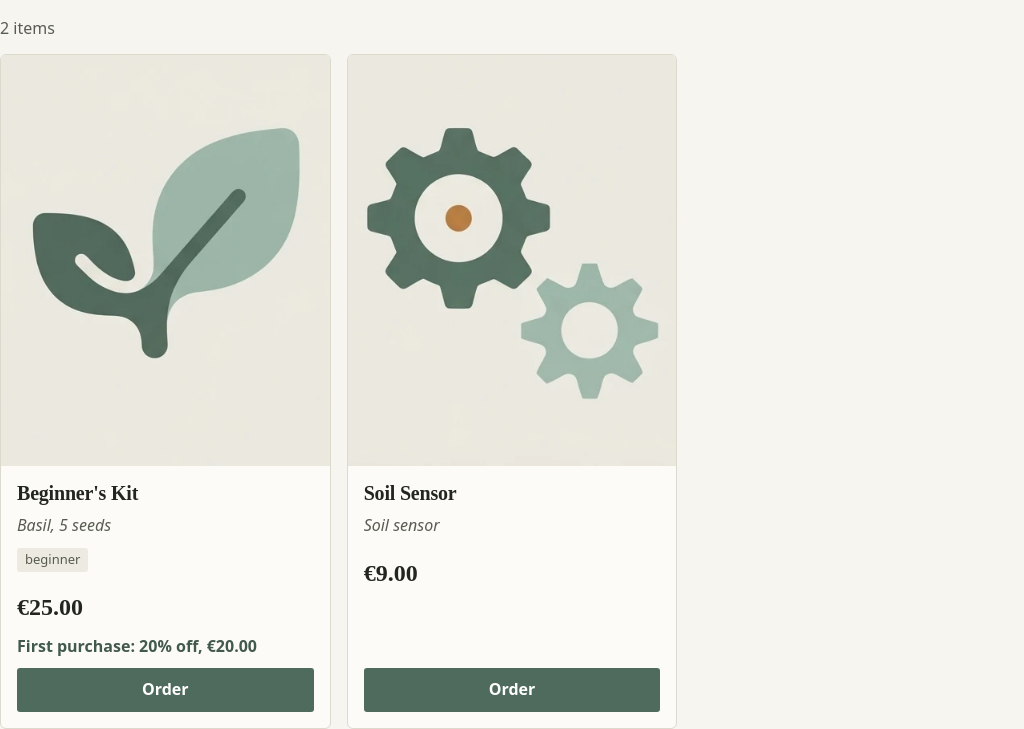
Test case: CatalogPage › places an order with an idempotency key and shows the receipt
(page scrolled)
What coordinates should you click on to do the following:
click the button with aria-label "Order Beginner's Kit"
I would click on:
 (165, 690)
Its box is left=17, top=668, right=314, bottom=712.
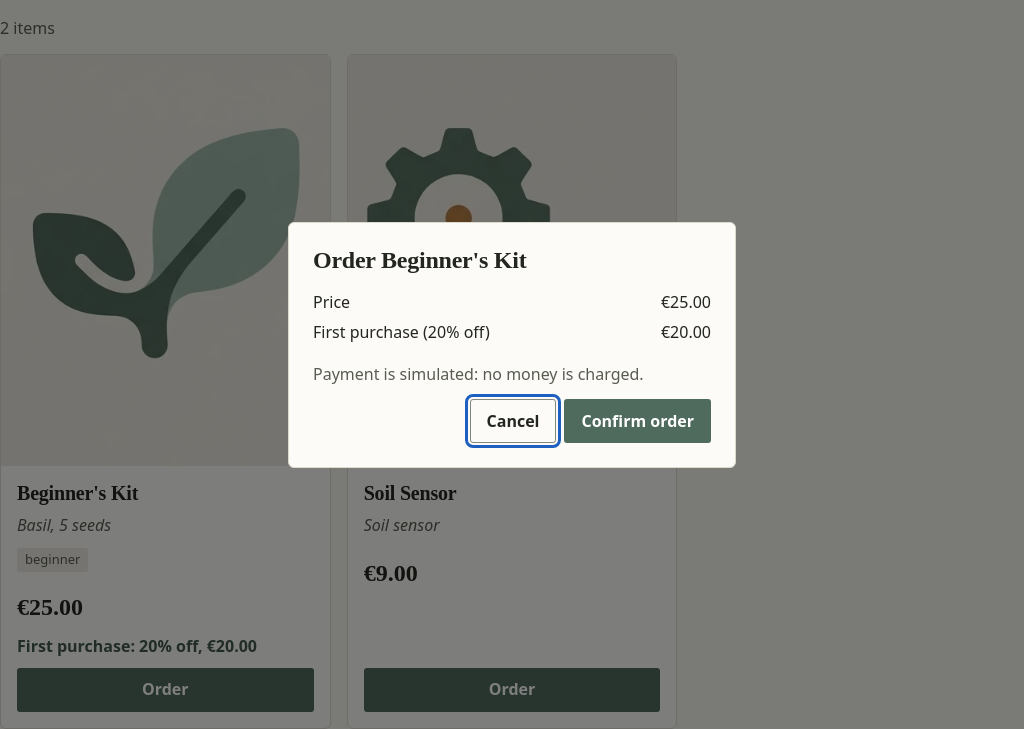
What coordinates should you click on to do the following:
click the button "Confirm order"
I would click on:
 (638, 421)
Its box is left=564, top=399, right=711, bottom=443.
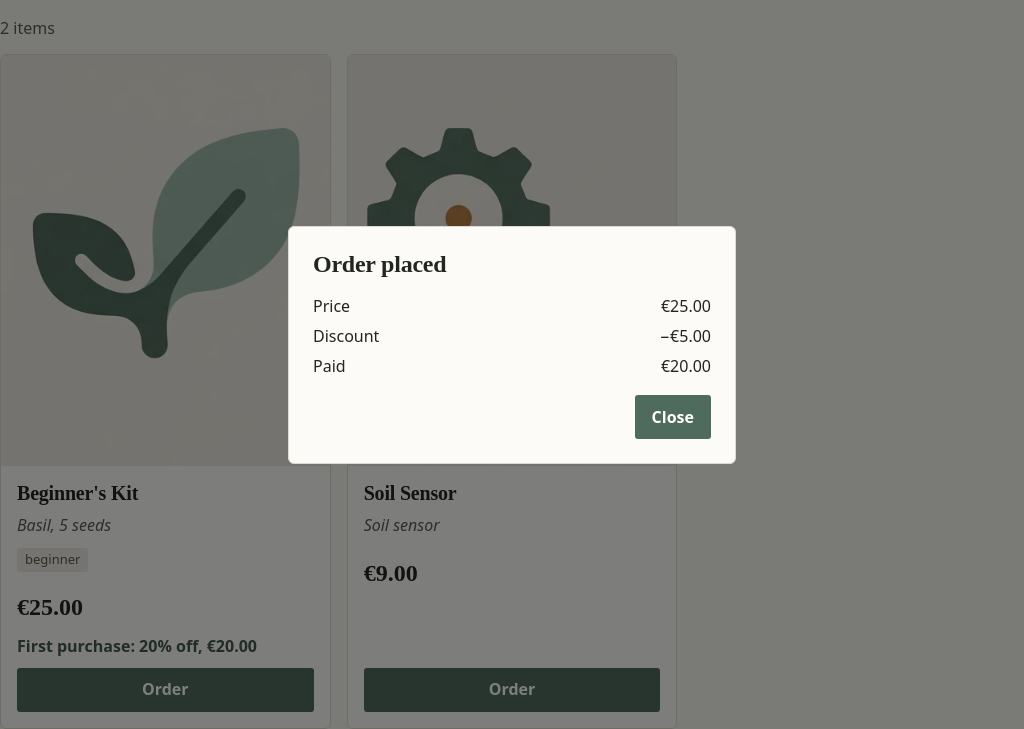
Expected: the text "€20.00" is shown, left=660, top=354, right=711, bottom=379
Expected: the heading "Order placed" is shown, left=313, top=251, right=446, bottom=277
